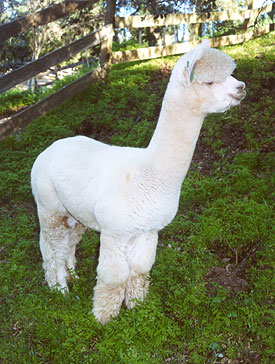alpaca: (29, 38, 246, 322)
